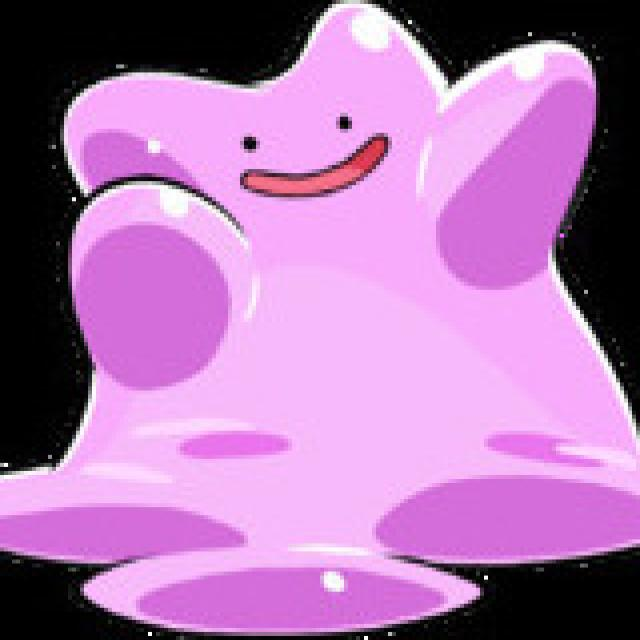Ditto: (3, 0, 630, 576)
